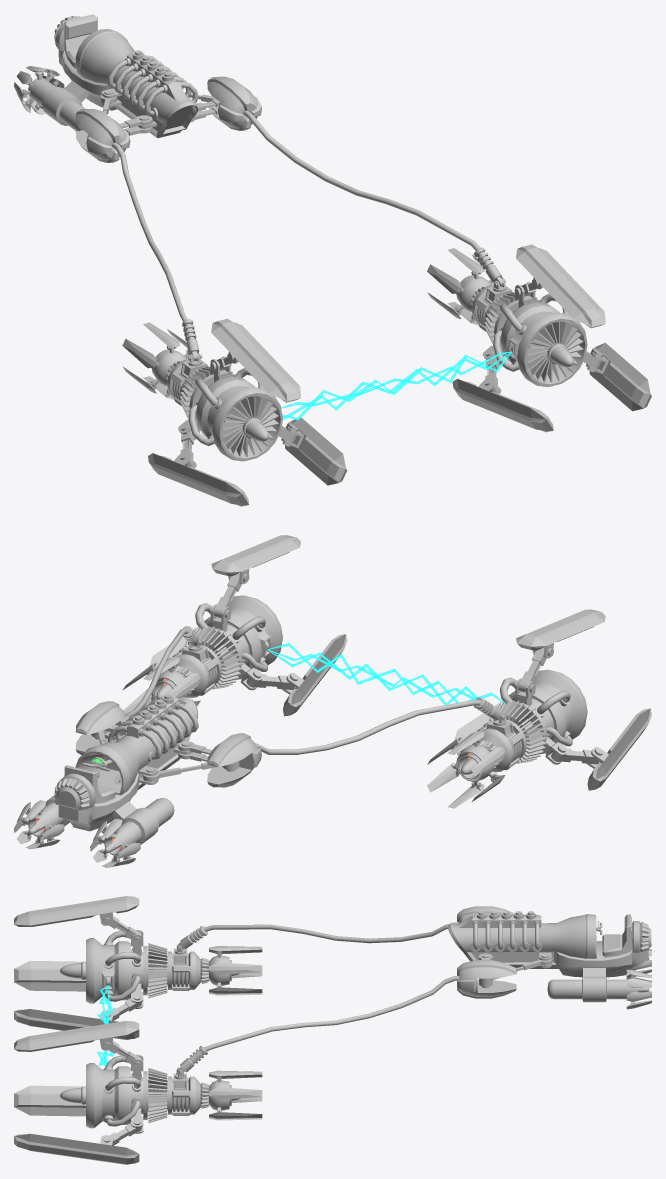
3 views of the same model, one above another, from view 1: azimuth 30°, elevation 25°; view 2: azimuth 150°, elevation 25°; view 3: azimuth 270°, elevation 25° (orthographic). The views are drawn at different scales.
Visible parts, largest first — view 1: POD1_M_1_0, Loft010_M_3_0, Loft010_M_4_0; view 2: POD1_M_1_0, Loft010_M_3_0, Loft010_M_4_0; view 3: POD1_M_1_0, Loft010_M_3_0.
Part boxes in pixels (bbox=[...]): POD1_M_1_0: bbox=[14, 14, 651, 506]; Loft010_M_3_0: bbox=[281, 351, 512, 420]; Loft010_M_4_0: bbox=[281, 352, 511, 419]; POD1_M_1_0: bbox=[14, 535, 651, 867]; Loft010_M_3_0: bbox=[267, 643, 503, 705]; Loft010_M_4_0: bbox=[269, 644, 502, 704]; POD1_M_1_0: bbox=[14, 896, 651, 1164]; Loft010_M_3_0: bbox=[97, 985, 113, 1066].
Size of what is drawn, in the model's own units: 1071 by 447 by 1555.
